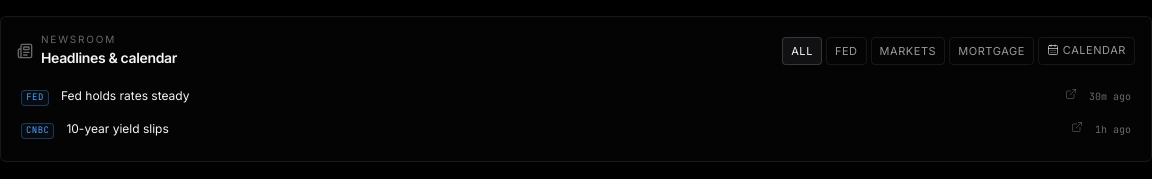
Test: NewsPanel › shows calendar entries on the Calendar tab
Click the button "Calendar": (1086, 51) [1038,37,1135,65]
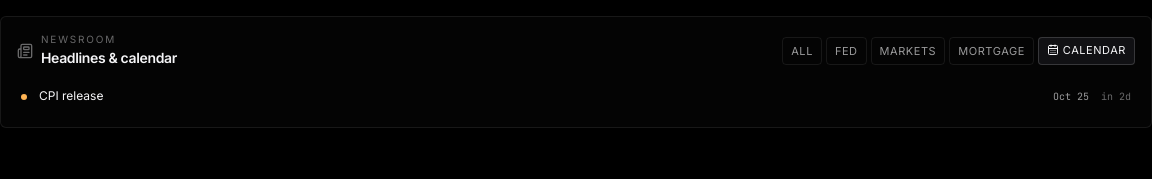
expect the text "CPI release" is shown: met, box [39,88,103,103]
expect the link "Fed holds rates steady" is gone: met
